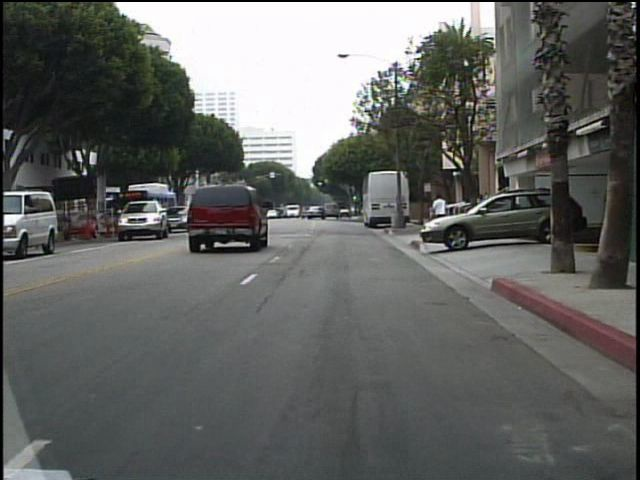person: (427, 191, 451, 238)
